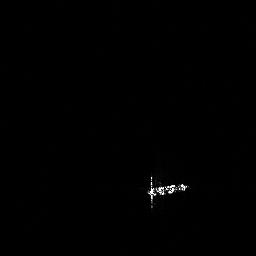ship: (147, 183, 188, 196)
